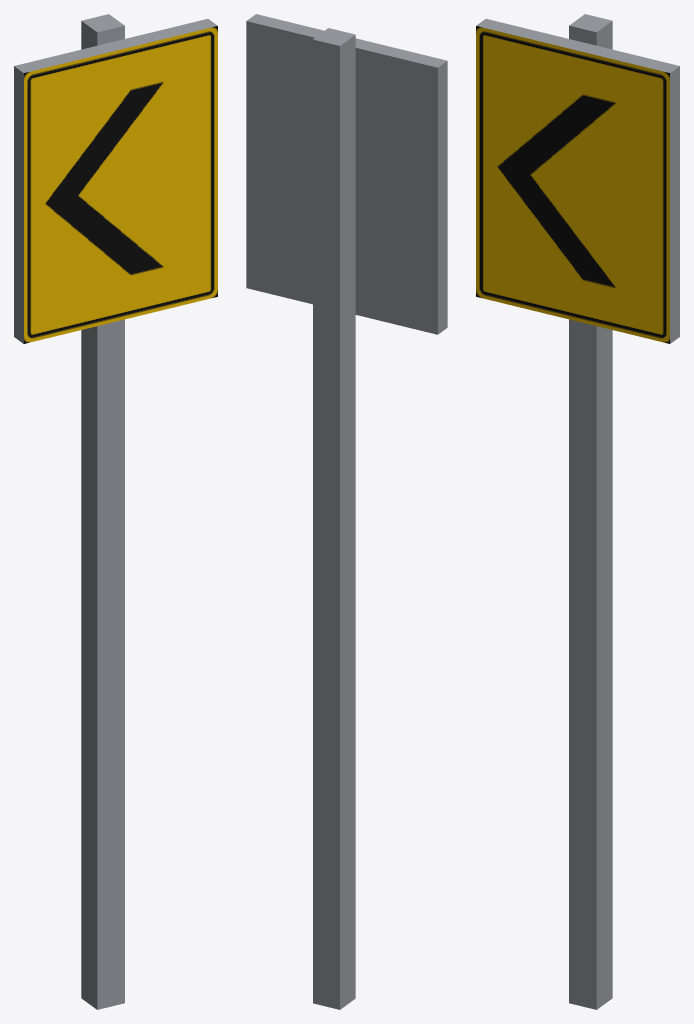
File: us_chevron_l.dae
3 views of the same model, side by side, from view 1: azimuth 30°, elevation 25°; view 2: azimuth 150°, elevation 25°; view 3: azimuth 330°, elevation 25° (orthographic).
Visible parts, largest first — view 1: sign4, Colmesh-1; view 2: Colmesh-1, sign4; view 3: sign4, Colmesh-1.
Part boxes in pixels (left/top/right/bottom): sign4: left=24, top=14, right=217, bottom=1009; Colmesh-1: left=14, top=19, right=217, bottom=343; Colmesh-1: left=246, top=14, right=447, bottom=334; sign4: left=313, top=28, right=355, bottom=1009; sign4: left=476, top=14, right=669, bottom=1009; Colmesh-1: left=476, top=19, right=679, bottom=343.
Size of the model in its own units: 0.4572 by 0.105 by 2.2.
2 materials, 1 textured.
